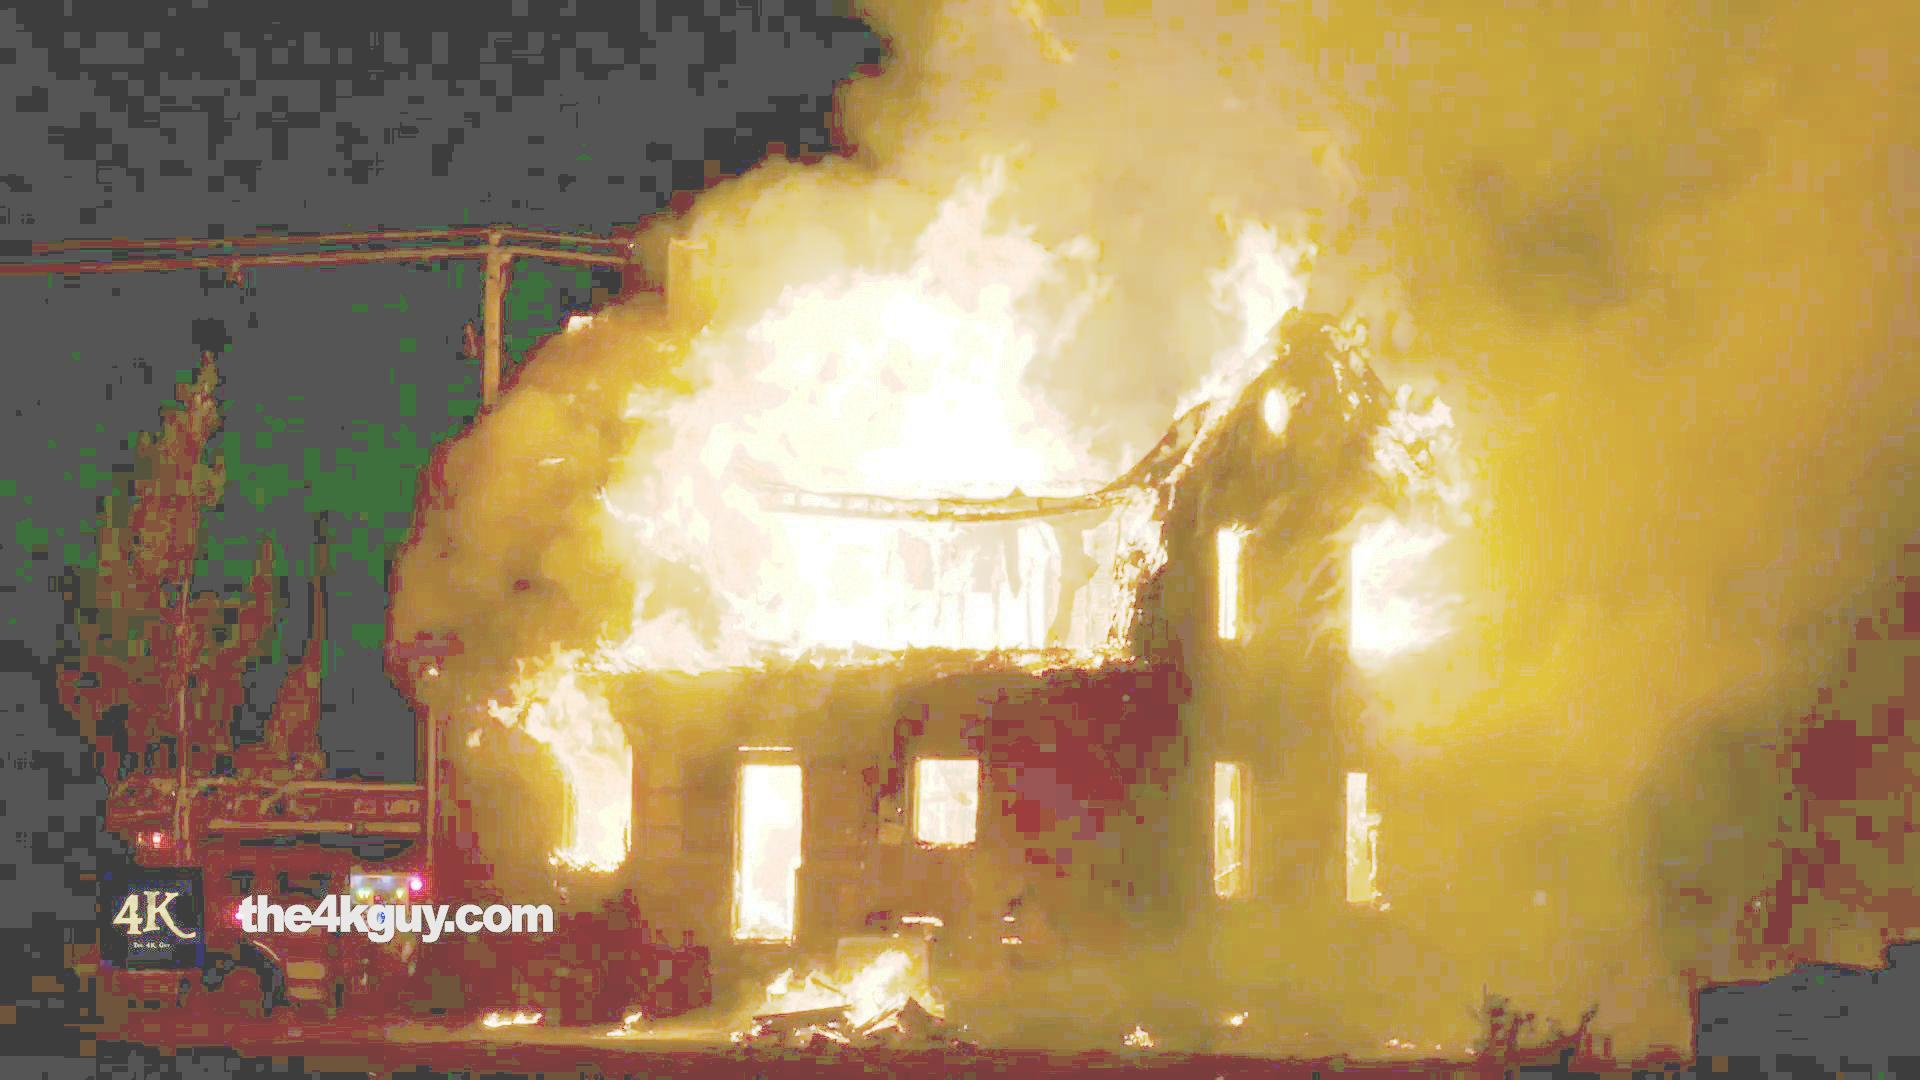fire: (556, 138, 1171, 638), (1341, 385, 1473, 692), (498, 633, 637, 882), (1168, 189, 1319, 385), (745, 935, 931, 1013)
